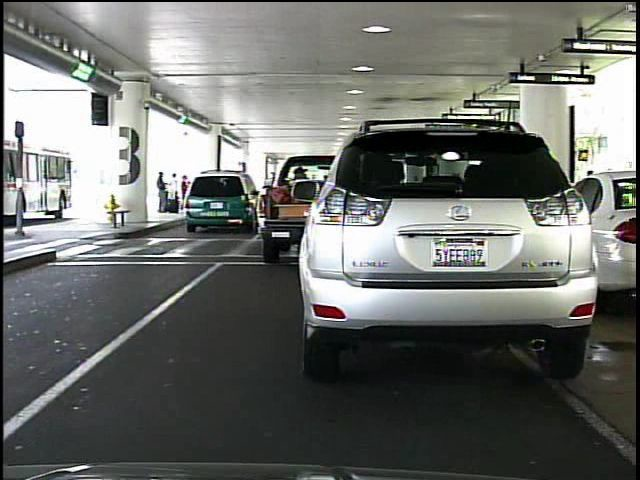person: (153, 164, 173, 217)
